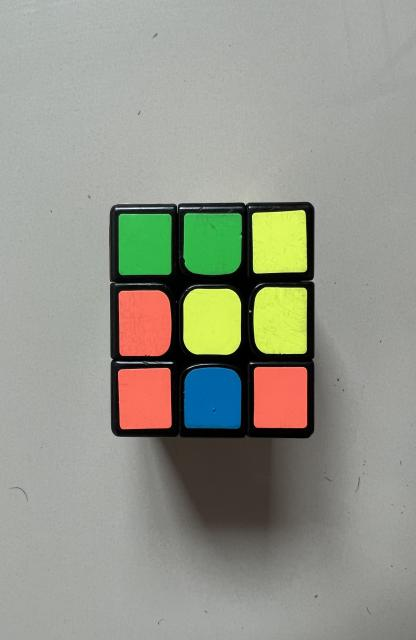Blue: (184, 368, 242, 429)
Green: (183, 212, 242, 275), (118, 214, 171, 275)
Orange: (118, 290, 171, 356), (254, 368, 308, 429), (118, 368, 171, 430)
Yellow: (183, 289, 242, 355), (252, 210, 308, 274), (254, 288, 307, 354)
